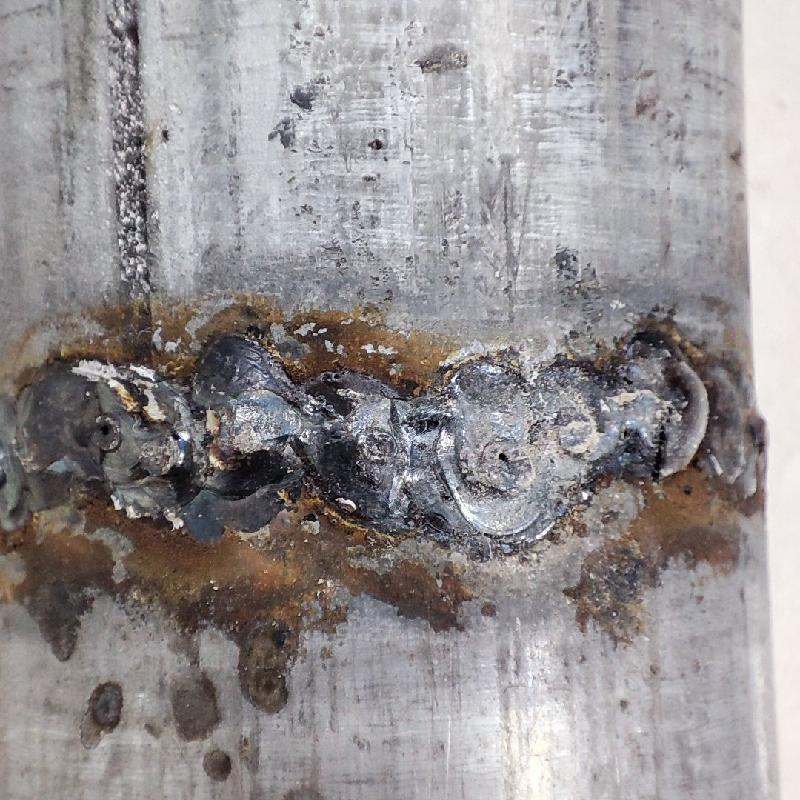Not_fully_soldered: (420, 343, 618, 532)
Surface_pores: (78, 403, 137, 456), (483, 429, 531, 488)
wrong_size: (2, 341, 412, 531), (622, 332, 770, 499)
